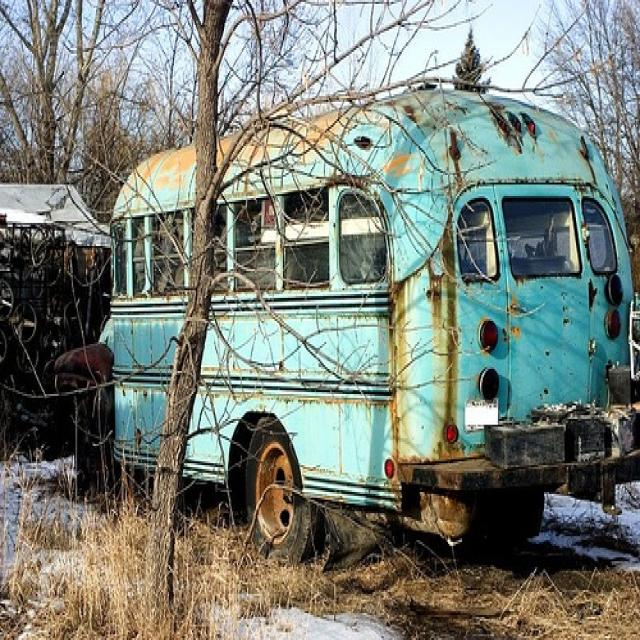bus: (74, 77, 639, 576)
